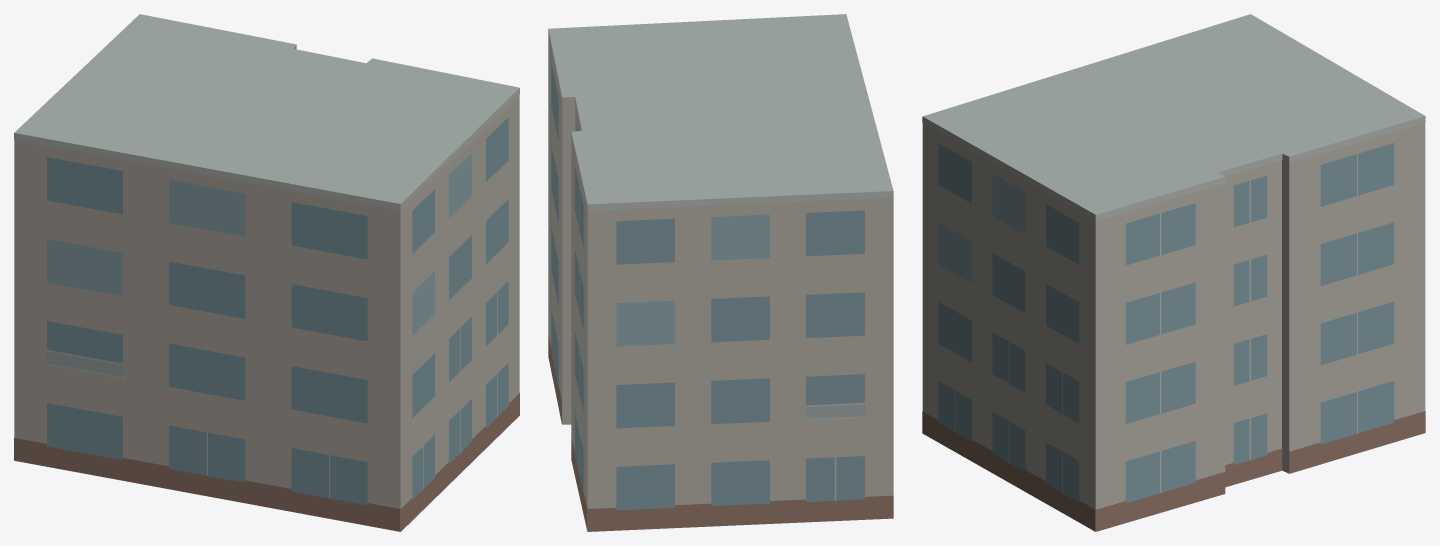
The model's file is survey-upis-32630824.glb.
The picture shows the model from 3 angles, left to right: view 1: azimuth 30°, elevation 25°; view 2: azimuth 150°, elevation 25°; view 3: azimuth 270°, elevation 25°; orthographic projection. The views are drawn at different scales.
Visible parts, largest first — view 1: survey-upis-32630824.tmp; view 2: survey-upis-32630824.tmp; view 3: survey-upis-32630824.tmp.
Part boxes in pixels (x1,y1,x2,y2): survey-upis-32630824.tmp: (14, 14, 519, 531); survey-upis-32630824.tmp: (548, 14, 893, 531); survey-upis-32630824.tmp: (922, 14, 1425, 531).
Bounding box in the file's own units: 16.04 × 11.8 × 16.97.
